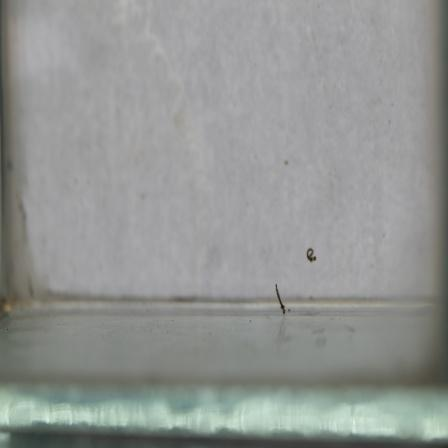Jentik-Nyamuk: (270, 279, 290, 317), (303, 242, 320, 266)
